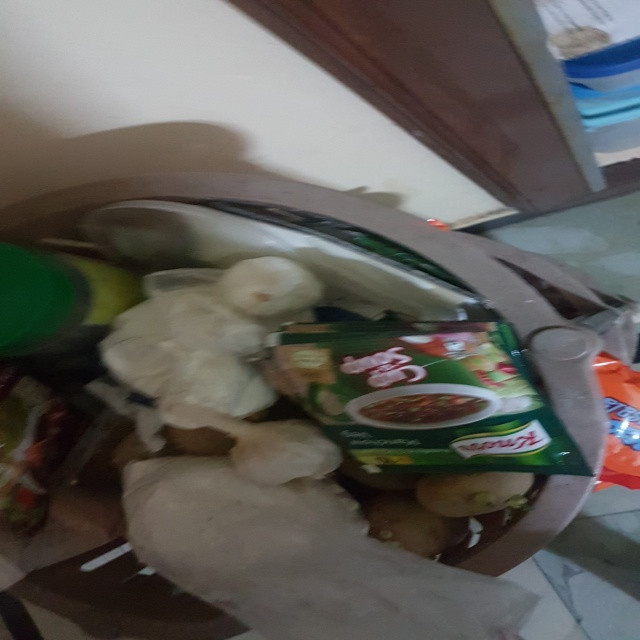garlic: (171, 400, 350, 489)
